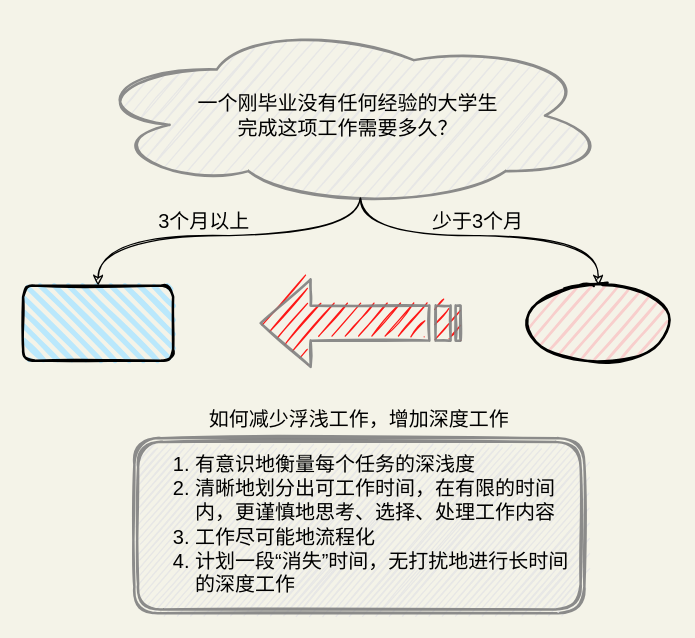
Some shapes in this 695 by 638 pixel diagram are drawn without their labels. Each missing label, with the centre of its shape:
浮浅工作: [597,322]
深度工作: [97,322]
